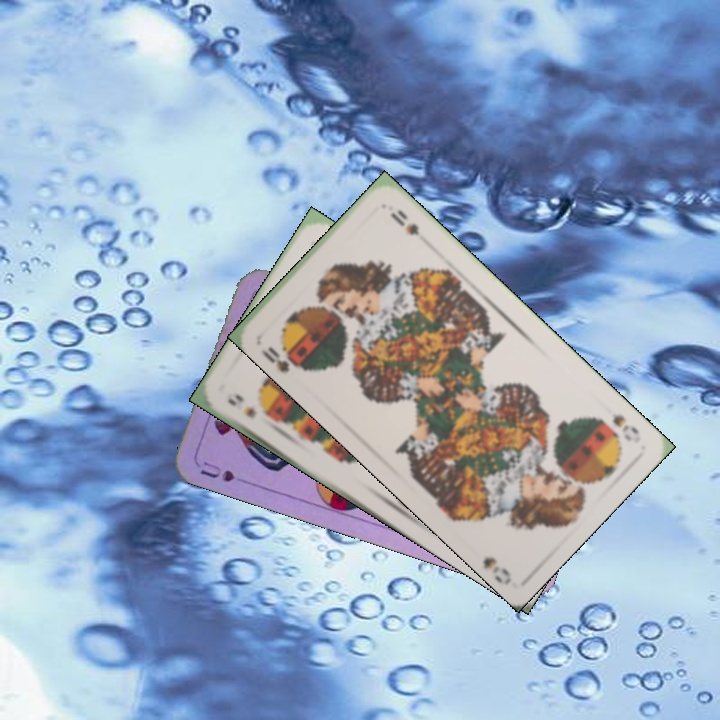S9: (224, 389, 259, 421)
SO: (256, 342, 311, 376), (607, 409, 641, 444)
SU: (195, 457, 254, 486)
